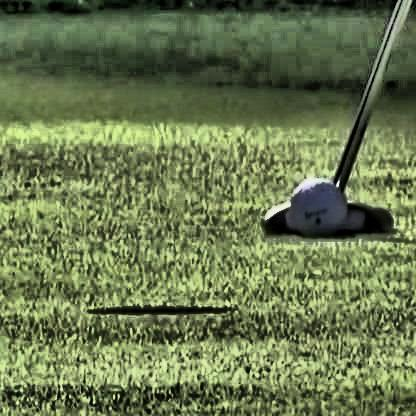golfball: (284, 172, 343, 235)
